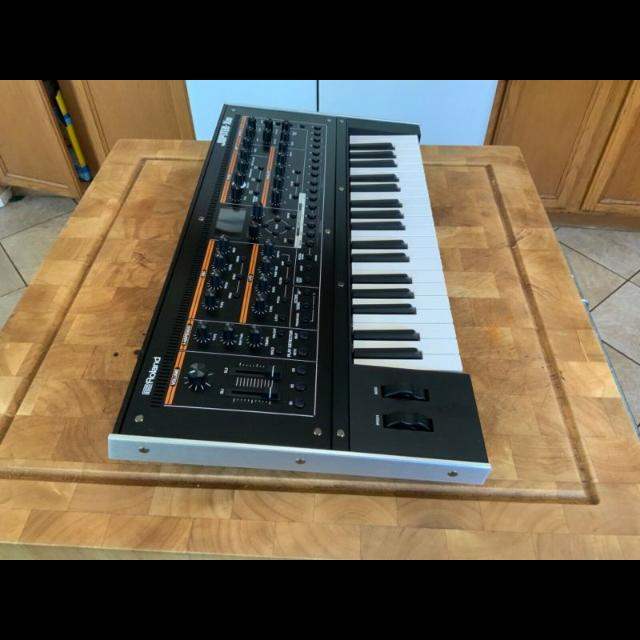Electronic-Keyboard: (99, 94, 499, 498)
